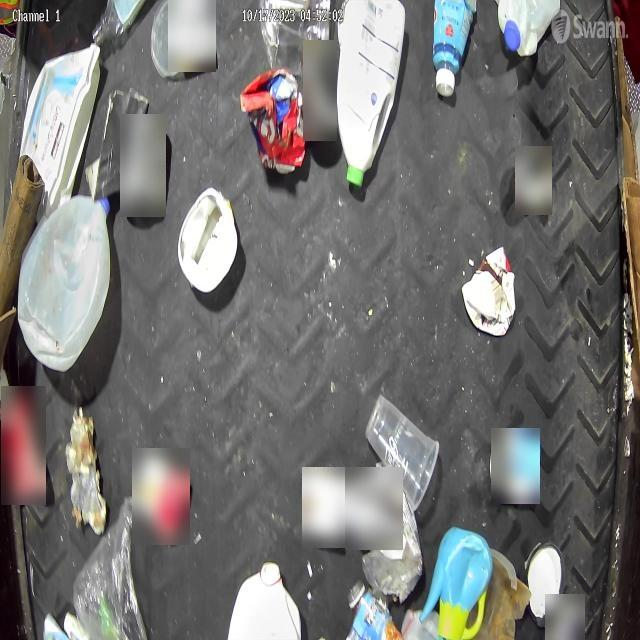milk_jug: (18, 190, 112, 377), (228, 560, 304, 640), (496, 0, 564, 58)
